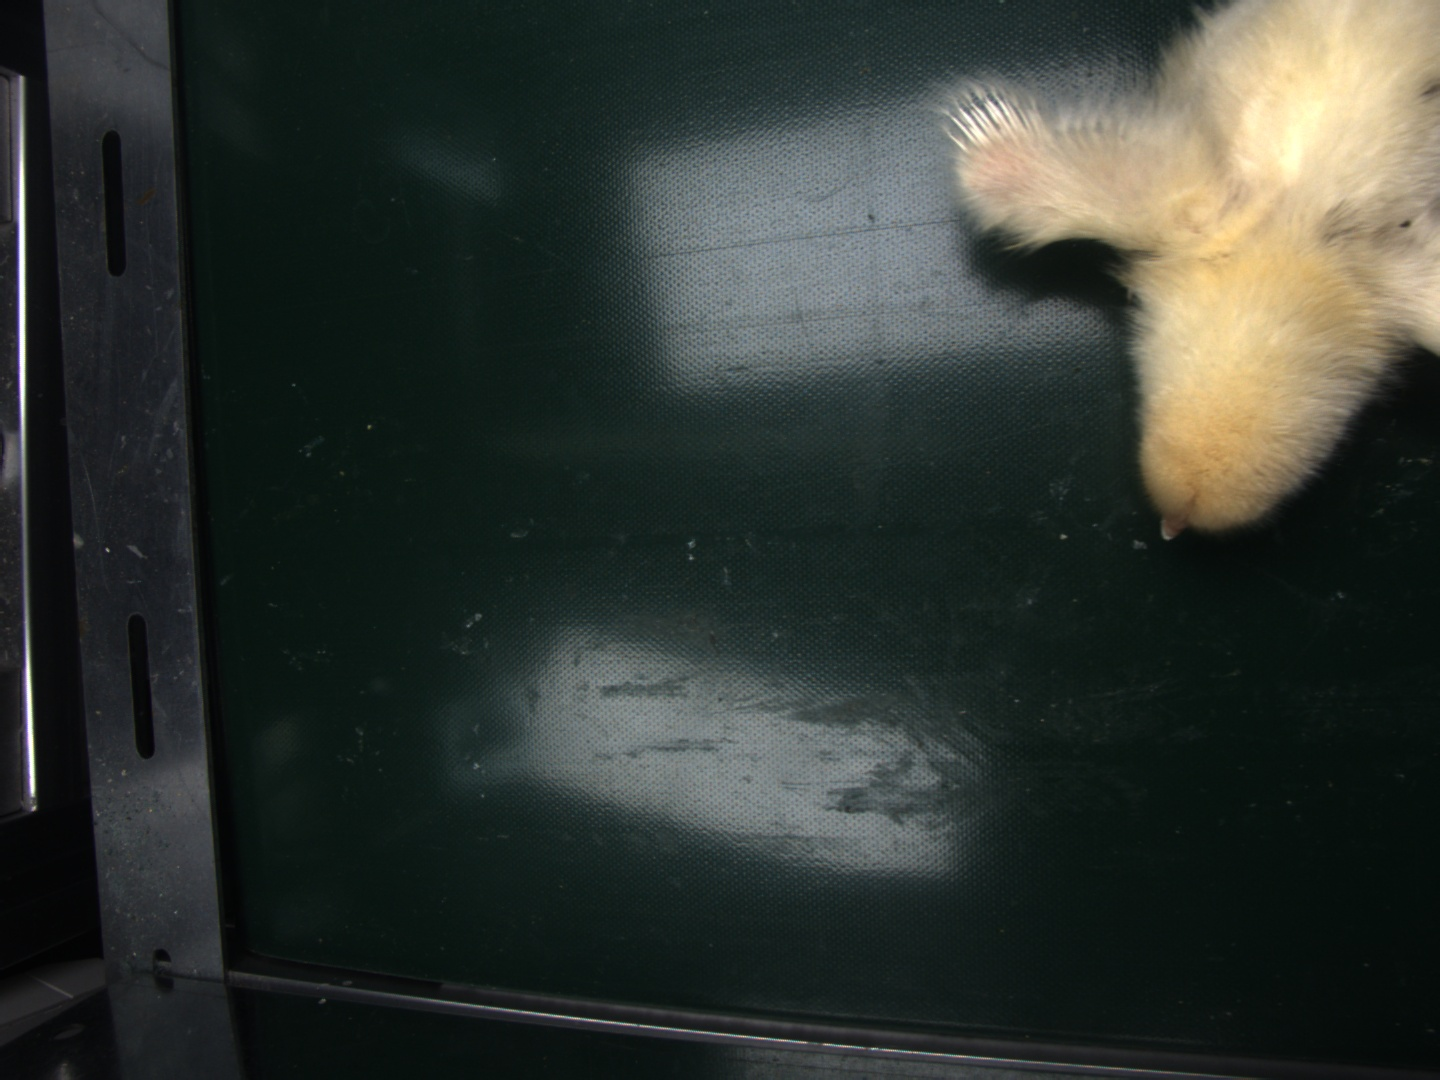male: (949, 95, 1036, 151)
